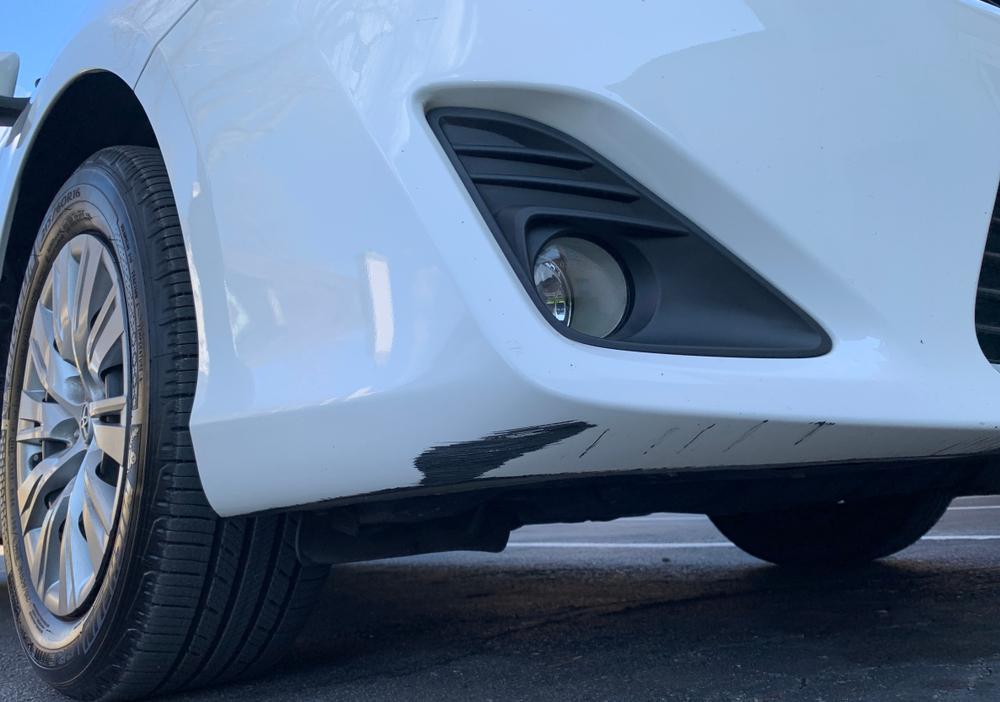scratch: (413, 413, 836, 485)
